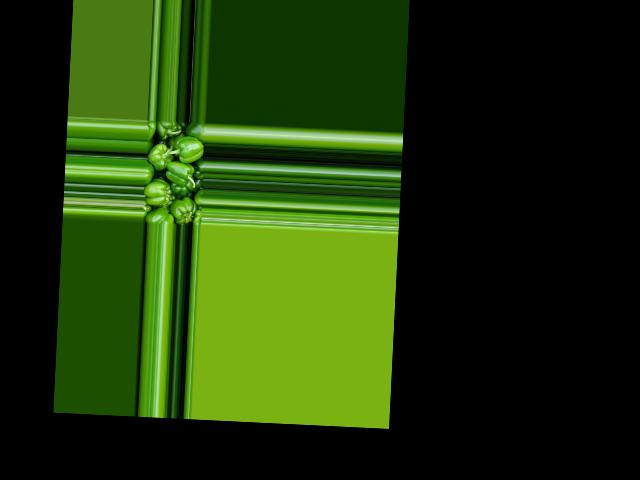bell_pepper: (185, 121, 206, 145)
